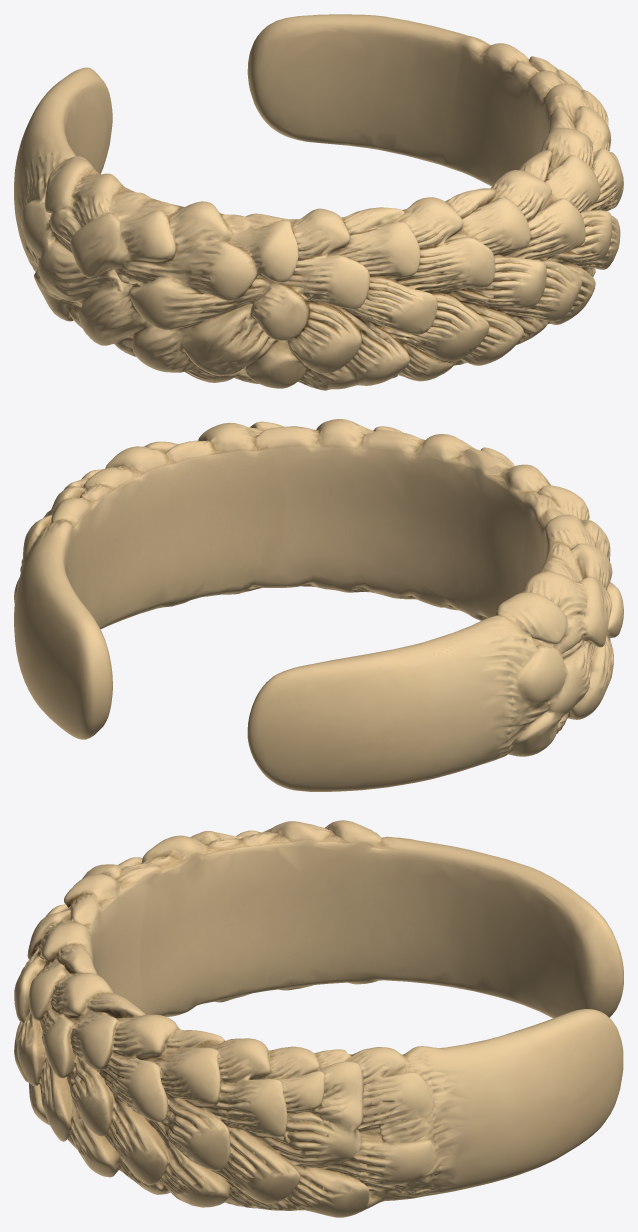
Rendered from 10-خاتم-جذع-النخلة.glb.
3 renders of one model, top to bottom at view 1: azimuth 30°, elevation 25°; view 2: azimuth 150°, elevation 25°; view 3: azimuth 270°, elevation 25°, orthographic. The views are drawn at different scales.
Size of the model in its own units: 1.9 by 0.5973 by 1.82.
Materials: 1 (1 with a texture image).
